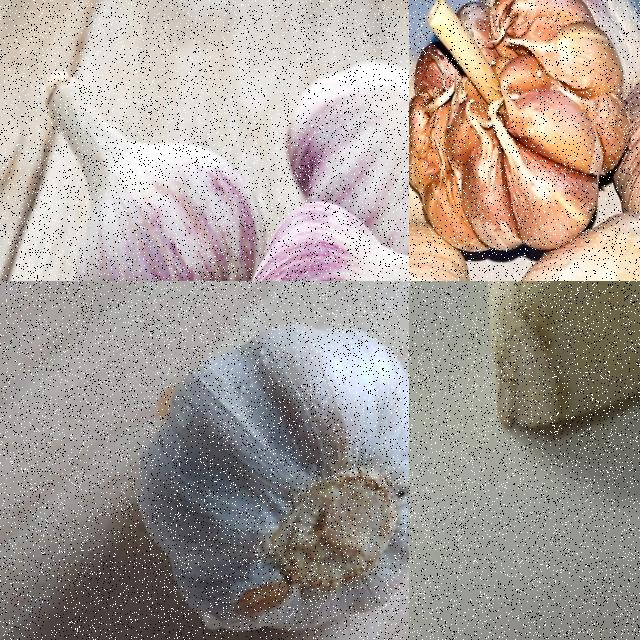garlic: (132, 324, 408, 639), (409, 0, 632, 254), (37, 67, 277, 280), (288, 0, 408, 271), (482, 281, 639, 435), (409, 44, 467, 230)
